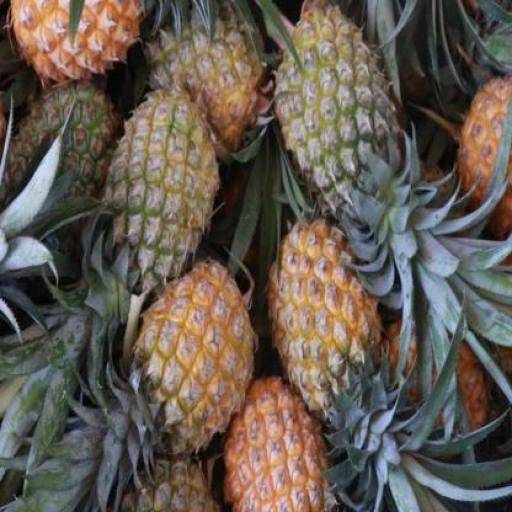------------------------------: (274, 2, 394, 216), (102, 92, 211, 288), (145, 0, 264, 158)
Pineapple - v8 v1: (270, 214, 380, 410), (137, 256, 249, 444), (220, 365, 333, 512)
